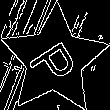P_NE: (24, 30, 84, 89)
